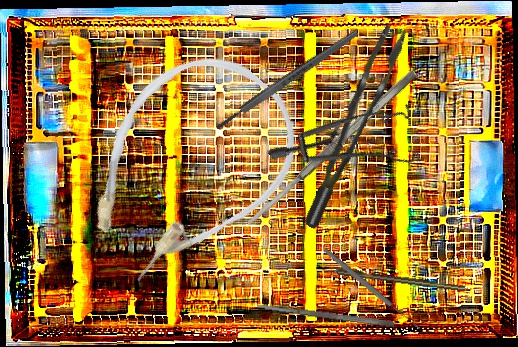Cannula: (46, 26, 324, 310)
Hook Surgical: (315, 264, 466, 293)
Scalpel Handle: (213, 28, 361, 132)
Spatula Surgical: (243, 68, 420, 228), (256, 301, 395, 329)
Speculum: (266, 68, 439, 231)
Surgical Spoon: (322, 246, 422, 333)
Tissue Forceps: (277, 21, 427, 230)
